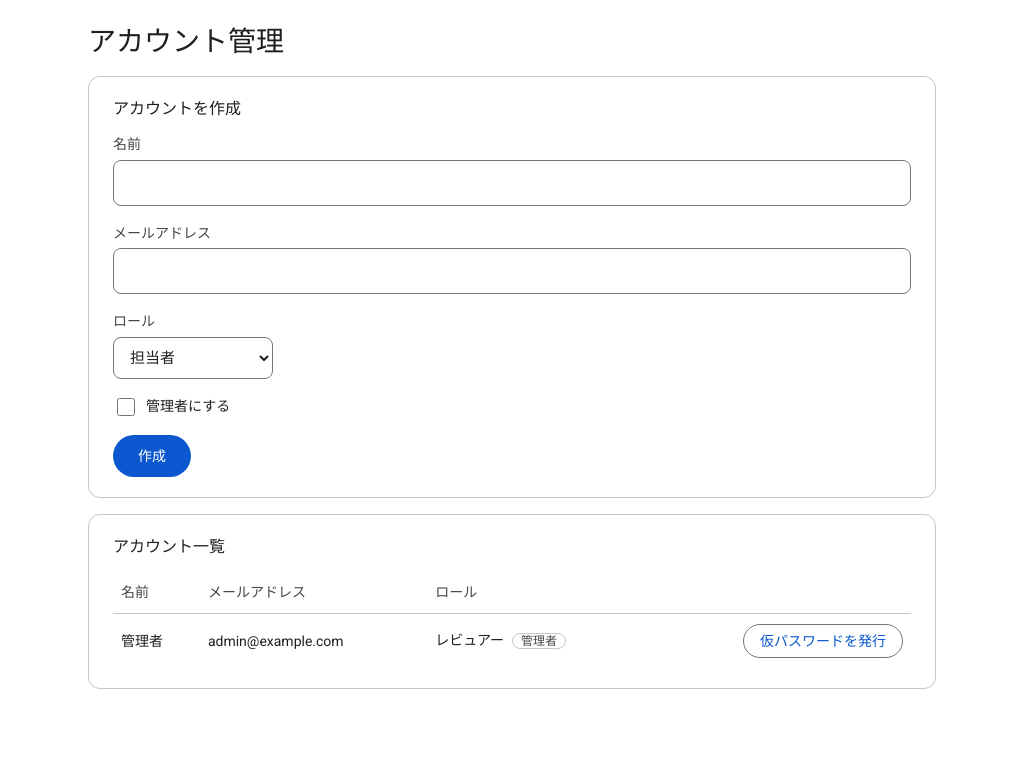
Test: アカウント管理 › 作成に失敗したら、APIが返したエラーを表示する
Click the button "作成". click: (152, 456)
box: 113,435 -> 191,477
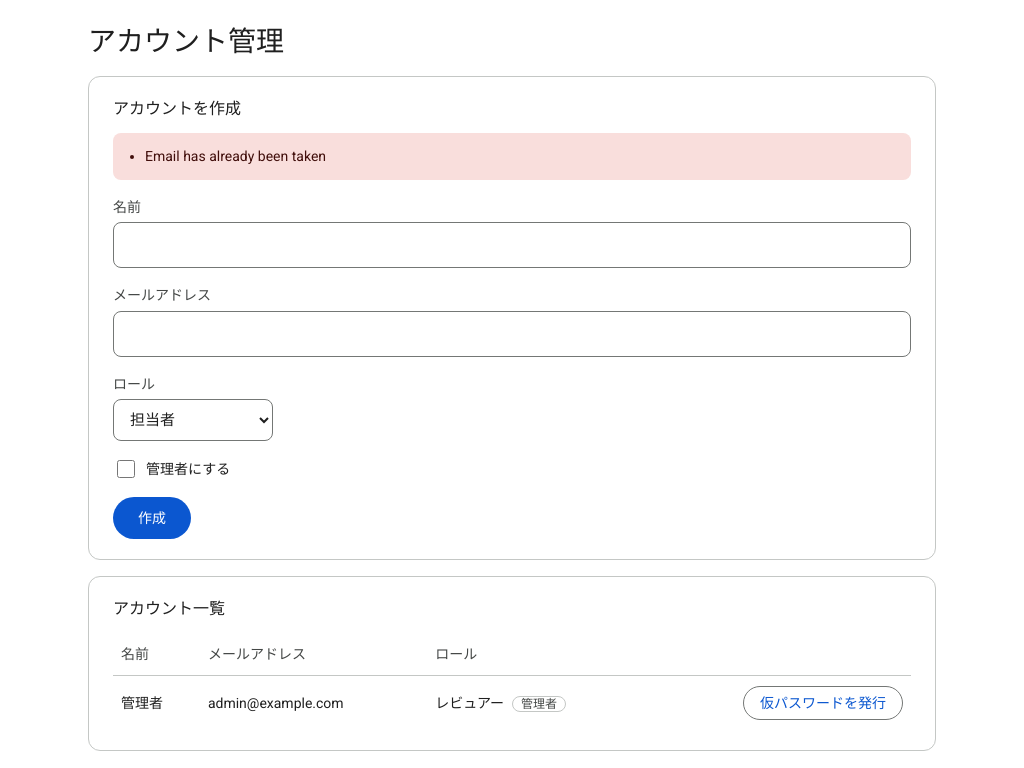
Check: the message reads "Email has already been taken", box 145,148 -> 326,164
